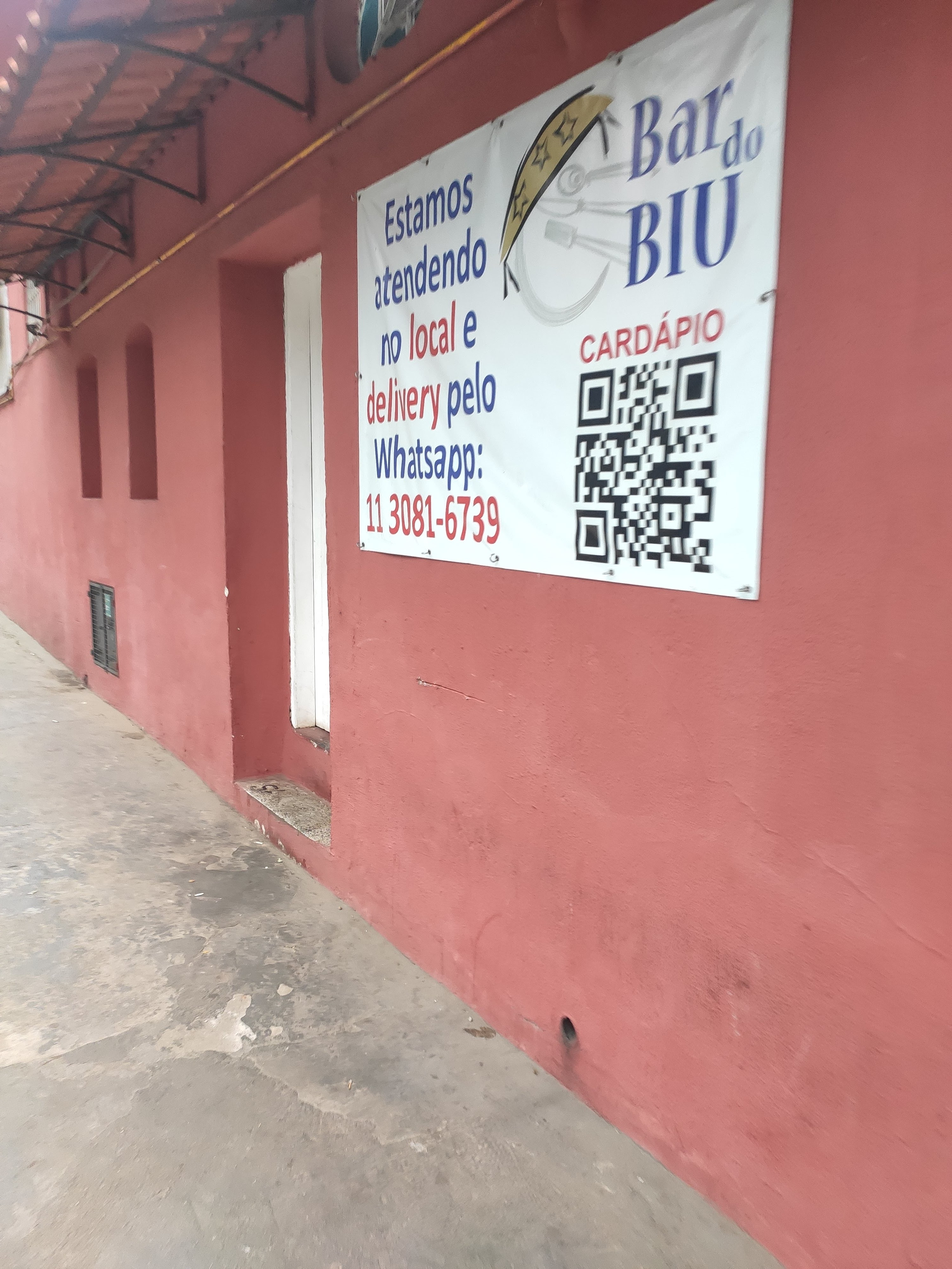QR-CODE: (576, 350, 715, 577)
